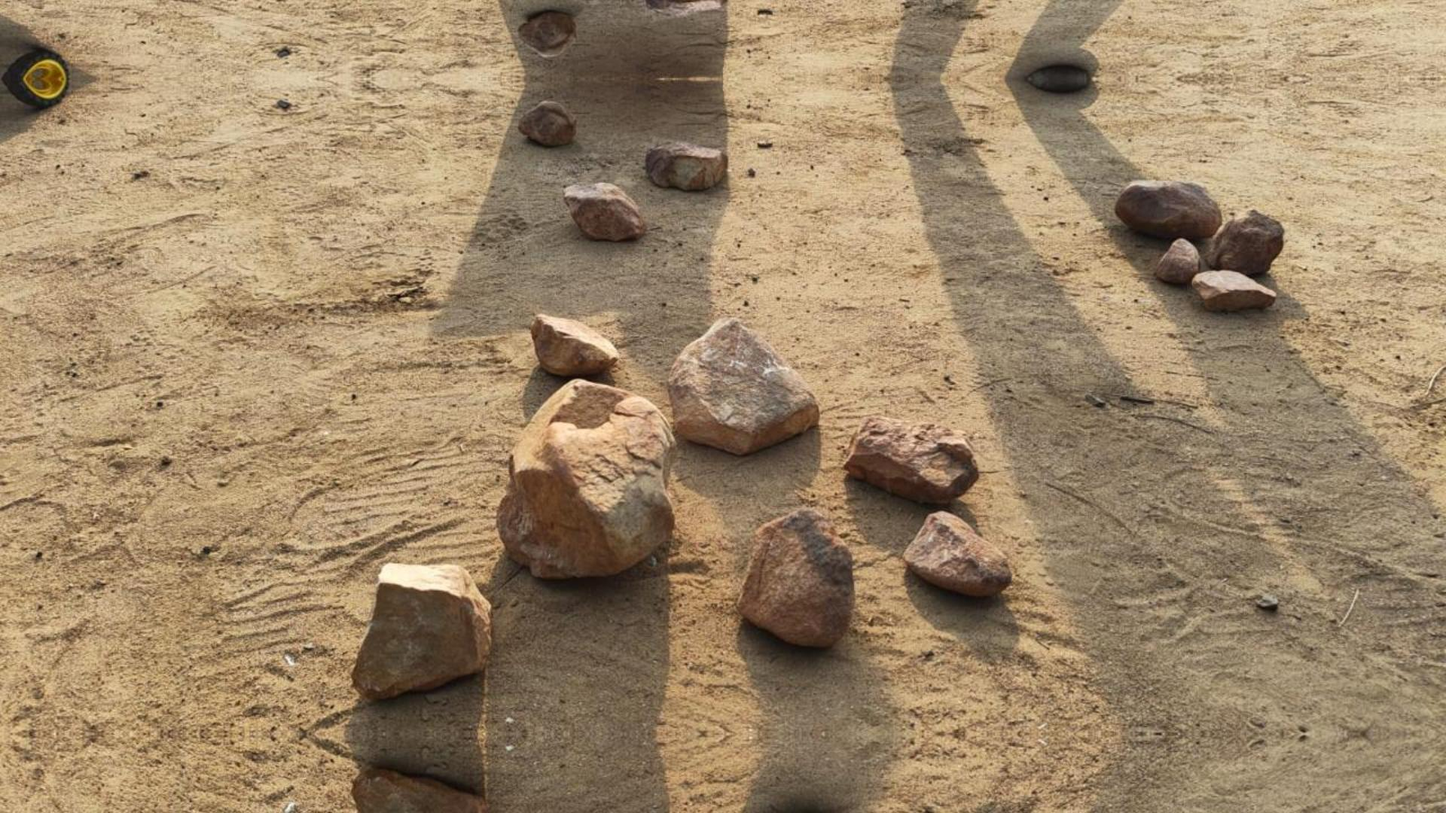rock: (497, 379, 674, 578), (669, 318, 818, 454), (351, 563, 489, 698), (737, 507, 853, 647), (843, 416, 977, 502), (904, 512, 1011, 595), (1115, 181, 1221, 238), (351, 768, 487, 812), (530, 313, 619, 375), (1203, 210, 1282, 277), (564, 182, 646, 241), (645, 141, 726, 190), (1191, 270, 1275, 309), (517, 9, 575, 55), (519, 100, 575, 146), (1156, 238, 1200, 283), (645, 0, 723, 17)
